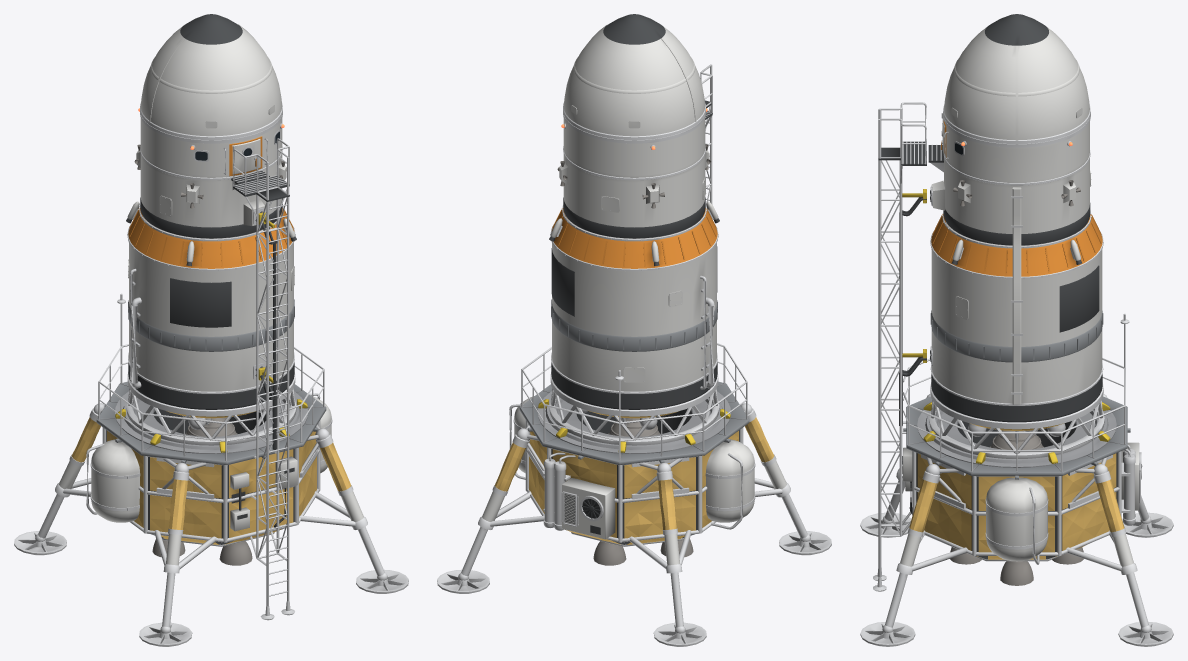
File: mav.glb
The picture shows the model from 3 angles, left to right: view 1: azimuth 30°, elevation 25°; view 2: azimuth 150°, elevation 25°; view 3: azimuth 270°, elevation 25°; orthographic projection. The views are drawn at different scales.
Visible parts, largest first — view 1: mav_mesh, ascent_mesh, nose_mesh; view 2: ascent_mesh, mav_mesh, nose_mesh; view 3: ascent_mesh, mav_mesh, nose_mesh, nozzle_mesh.
Part boxes in pixels (x1=…): mav_mesh: x1=14, y1=138, x2=408, y2=646; ascent_mesh: x1=126, y1=112, x2=296, y2=445; nose_mesh: x1=140, y1=14, x2=282, y2=140; ascent_mesh: x1=549, y1=112, x2=719, y2=445; mav_mesh: x1=437, y1=64, x2=831, y2=646; nose_mesh: x1=563, y1=14, x2=705, y2=140; ascent_mesh: x1=928, y1=113, x2=1104, y2=458; mav_mesh: x1=860, y1=102, x2=1173, y2=646; nose_mesh: x1=943, y1=14, x2=1090, y2=144; nozzle_mesh: x1=990, y1=429, x2=1043, y2=449.
Bounding box in the file's own units: 7.72 × 15.5 × 7.72.
